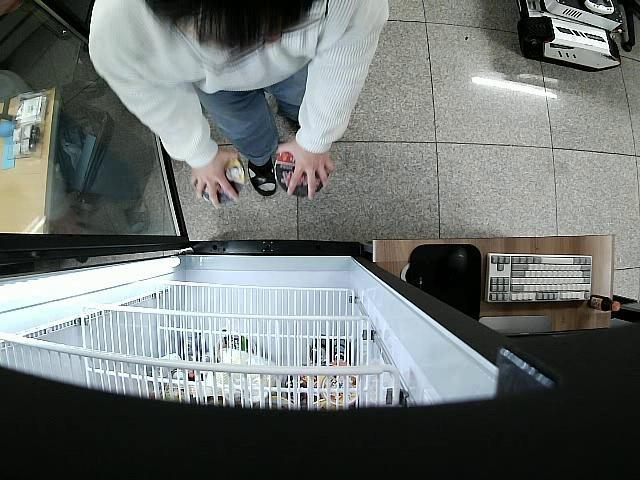07_buldak_L: (274, 152, 330, 198), (196, 158, 245, 206)
